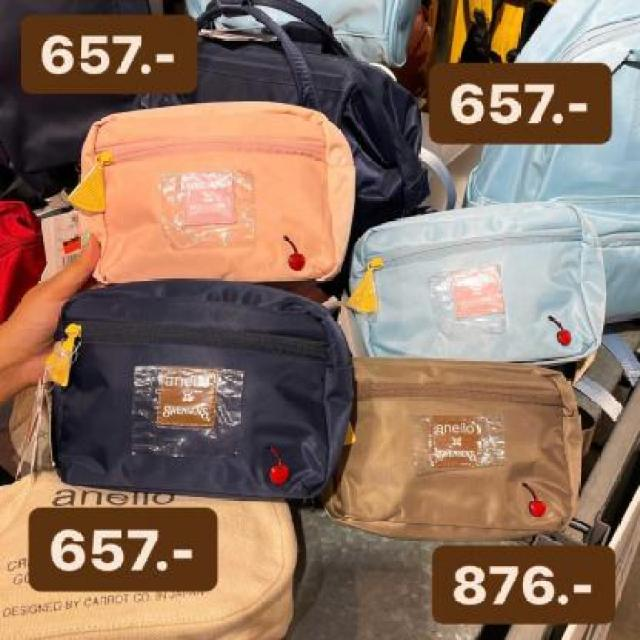Bag: (52, 282, 368, 520), (61, 73, 364, 284), (315, 340, 593, 554), (334, 195, 635, 376)
